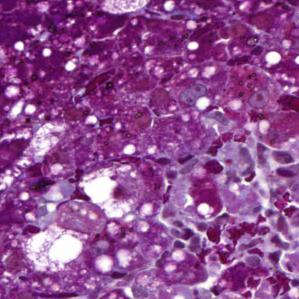ballooning: (80, 161, 149, 222), (20, 224, 85, 276)
